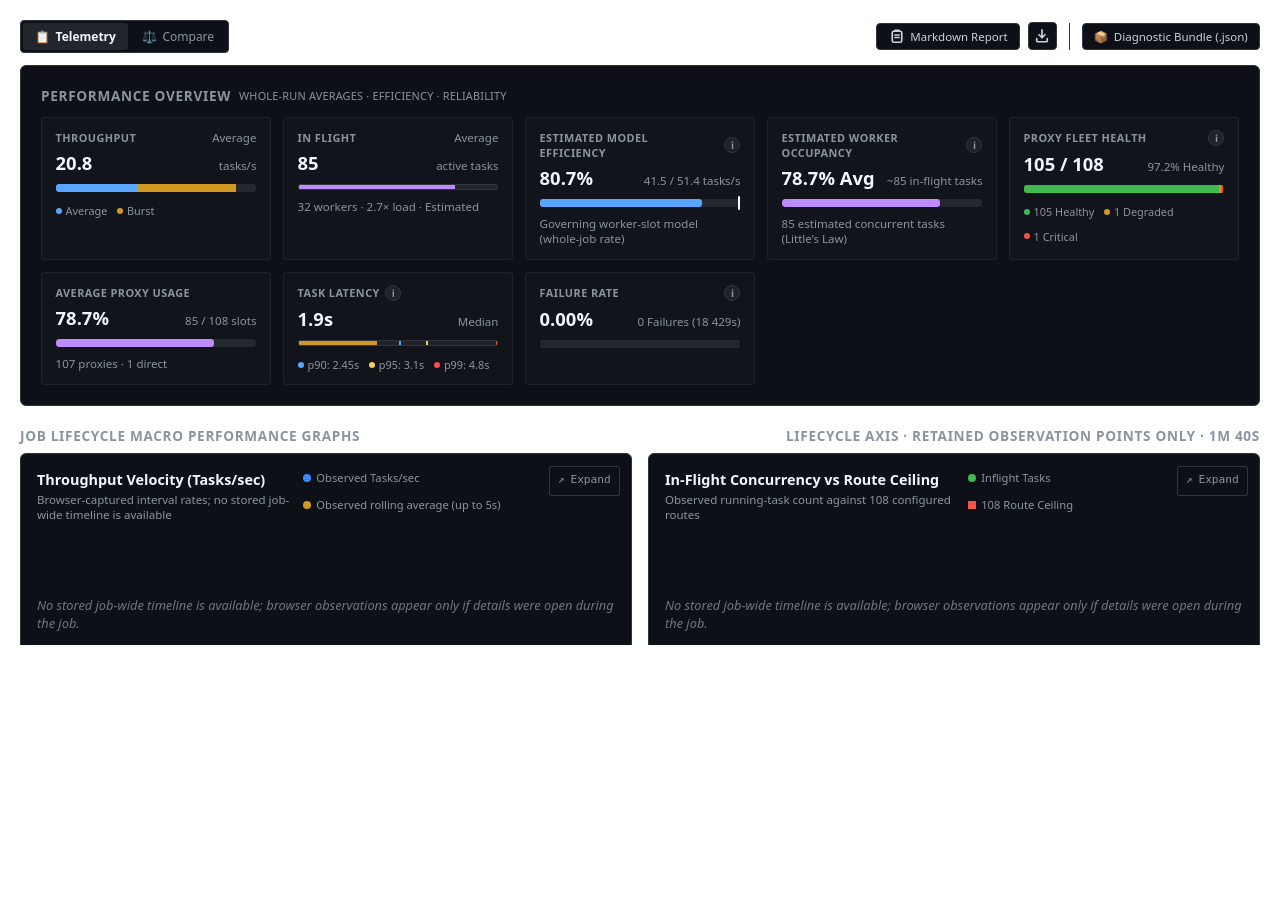
Test: JobDiagnosticsReport › excludes cancelled jobs from best and worst run extremes
Click the button "⚖️ Compare". click: (178, 36)
box: [130, 23, 226, 50]
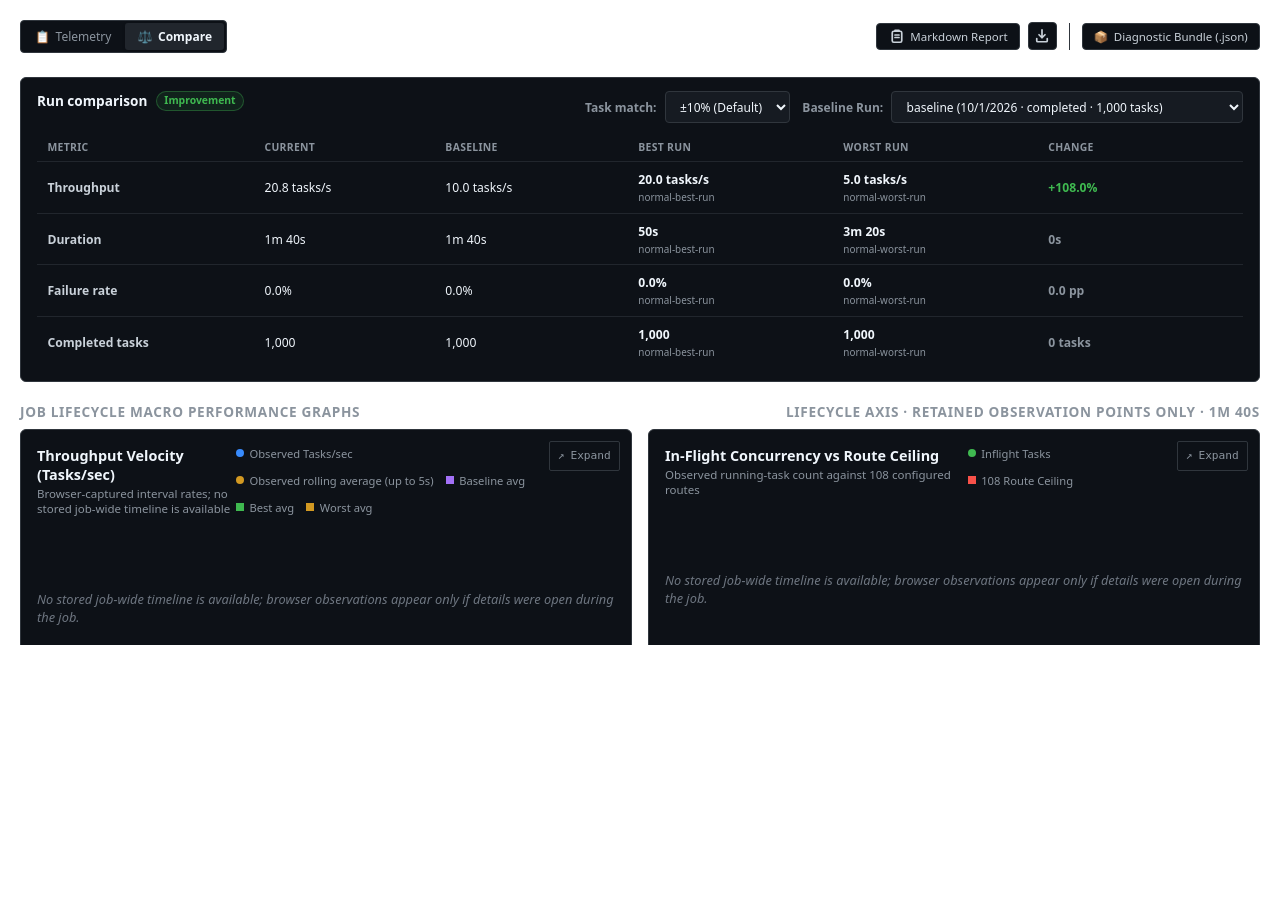
Now the row with test id "comparison-row-throughput" shows "normal-best-run", box [638, 190, 715, 204]
Now the row with test id "comparison-row-throughput" shows "20.0 tasks/s", box [638, 171, 709, 188]
Now the row with test id "comparison-row-throughput" shows "normal-worst-run", box [843, 190, 926, 204]
